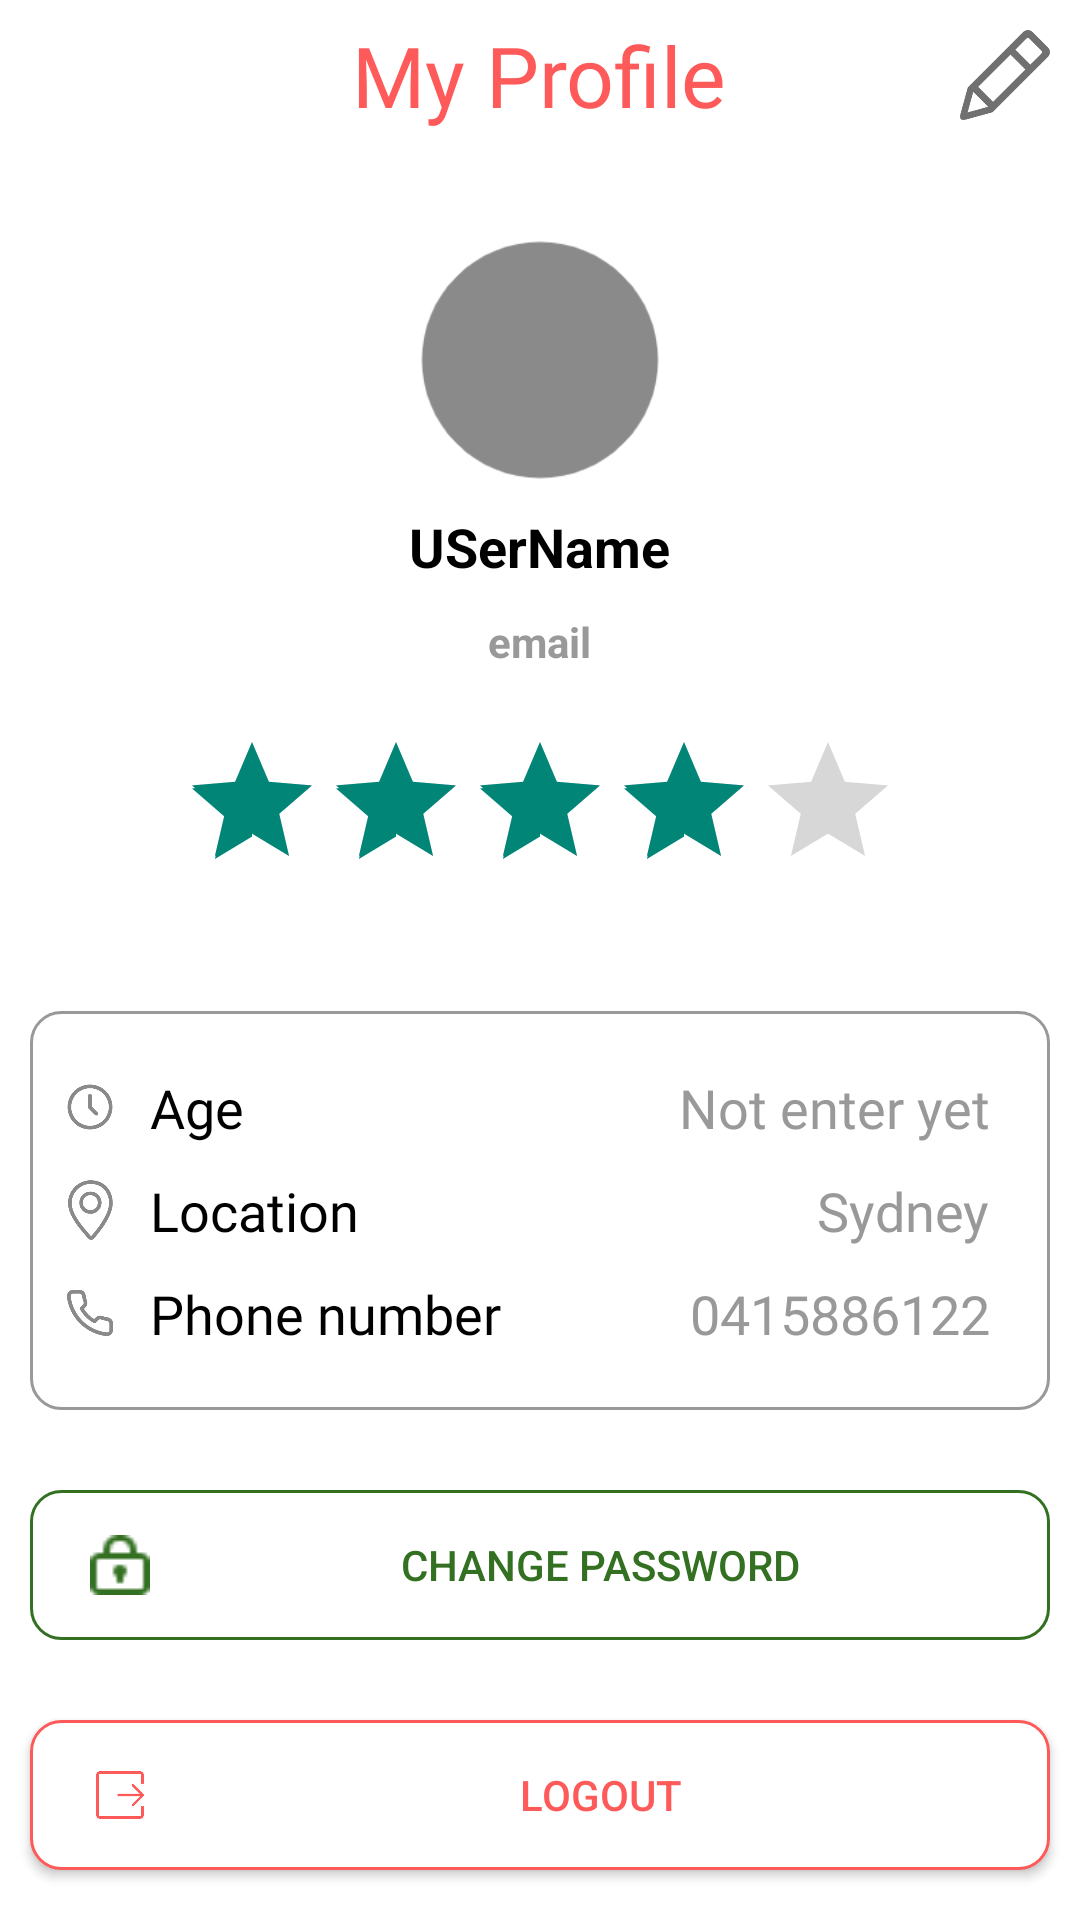

Named icons in this screenshot (1080x1920) and their bounding boxes, detection(x1, y1, x2, y2):
edit: detection(960, 30, 1050, 120)
time: detection(67, 1084, 113, 1130)
